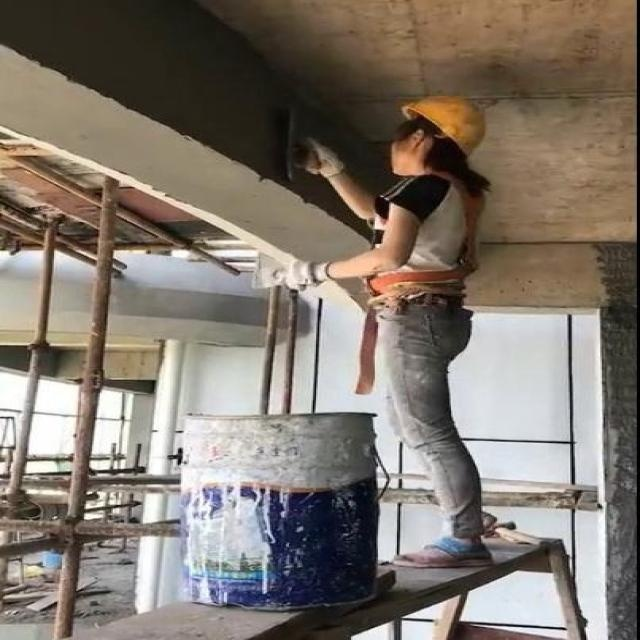Arnes_seguridad: (358, 163, 493, 294)
